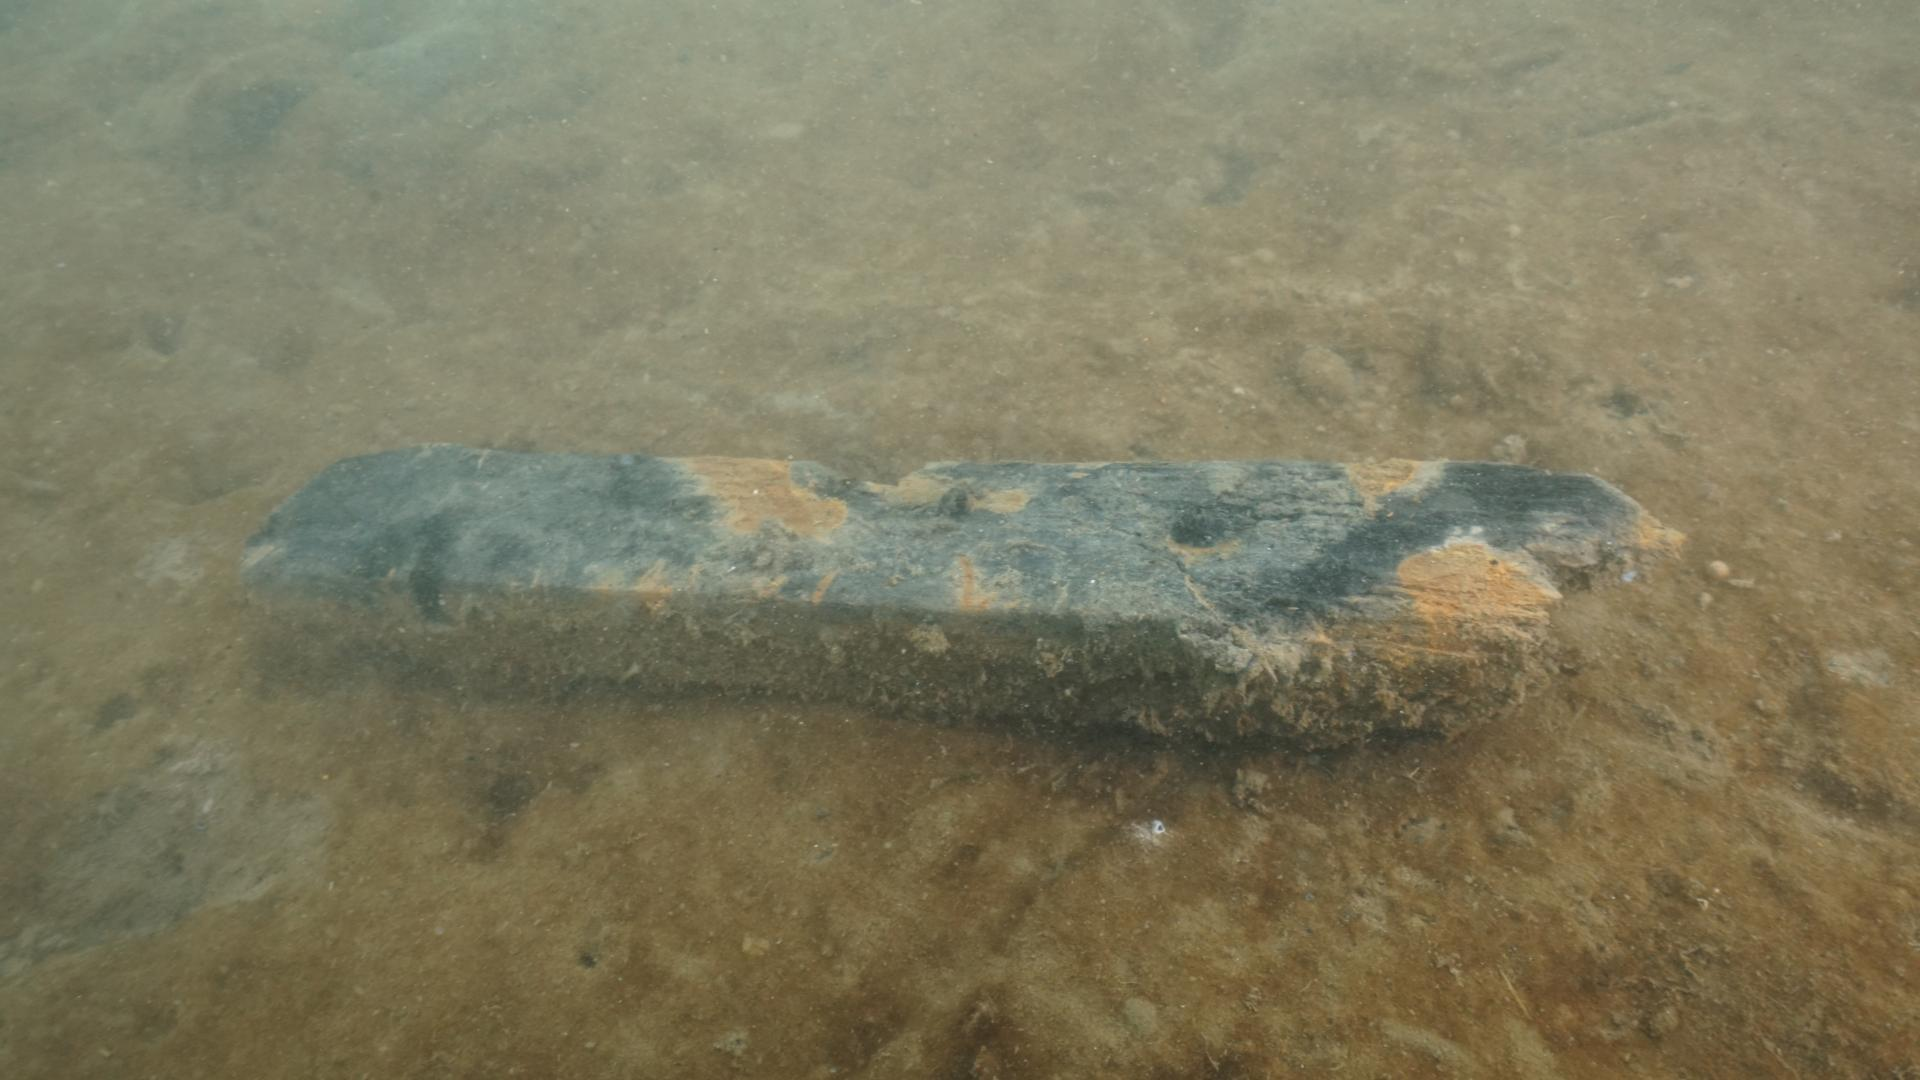wood: (222, 435, 1693, 752)
